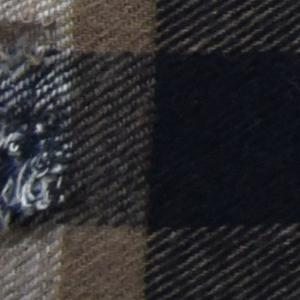Damage: (1, 12, 88, 251)
